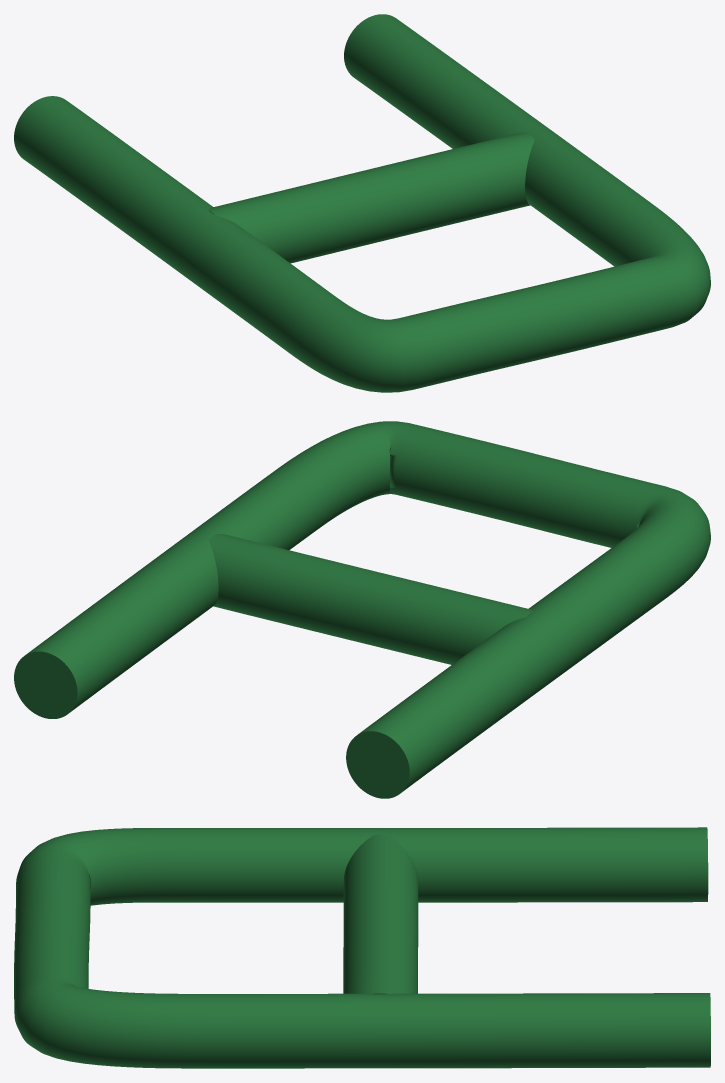
File: Arco2.glb
3 views of the same model, one above another, from view 1: azimuth 30°, elevation 25°; view 2: azimuth 150°, elevation 25°; view 3: azimuth 270°, elevation 25° (orthographic). The views are drawn at different scales.
Parts seen in each view (by area): view 1: BézierCurve; view 2: BézierCurve; view 3: BézierCurve.
Boxes of the visible parts, bbox=[...] form: BézierCurve: bbox=[14, 14, 710, 392]; BézierCurve: bbox=[14, 421, 710, 798]; BézierCurve: bbox=[14, 827, 710, 1068].
Size of the model in its own units: 7.15 by 1.14 by 10.64.
